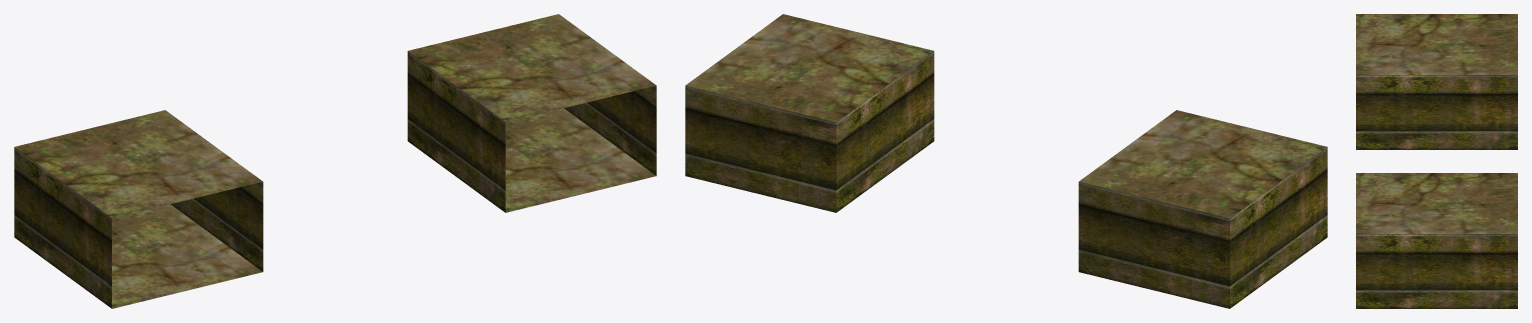
File: OVERHILL_A_01_LINE448.fbx
3 views of the same model, side by side, from view 1: azimuth 30°, elevation 25°; view 2: azimuth 150°, elevation 25°; view 3: azimuth 270°, elevation 25° (orthographic). The views are drawn at different scales.
Parts seen in each view (by area): view 1: OVERHILL_A_01_LINE448; view 2: OVERHILL_A_01_LINE448; view 3: OVERHILL_A_01_LINE448.
Part boxes in pixels (x1,y1,x2,y2): OVERHILL_A_01_LINE448: (14, 14, 656, 308); OVERHILL_A_01_LINE448: (685, 14, 1327, 308); OVERHILL_A_01_LINE448: (1356, 14, 1517, 308).
Bounding box in the file's own units: 46908 × 7450 × 14592.
2 materials, 2 textured.
